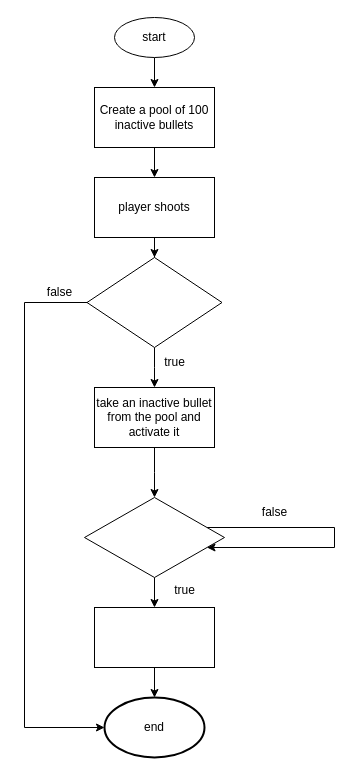
Some shapes in this 360 by 776 pixel diagram are drawn without their labels. Here are the shapes that lost their labels. From the top down, the centre of each, then its label:
the point at 154,302: if name of called object corresponds with objects in pool
the point at 154,537: if bullet touches something
the point at 154,637: deactivate bullet and return it to the pool
